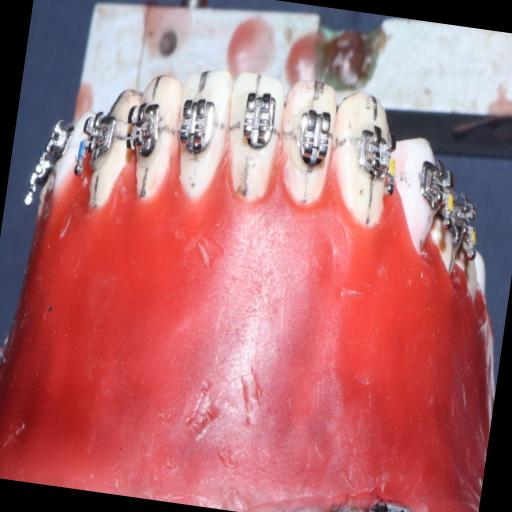correct_brace: (174, 96, 222, 159)
incorrect_brace: (234, 88, 280, 156)
